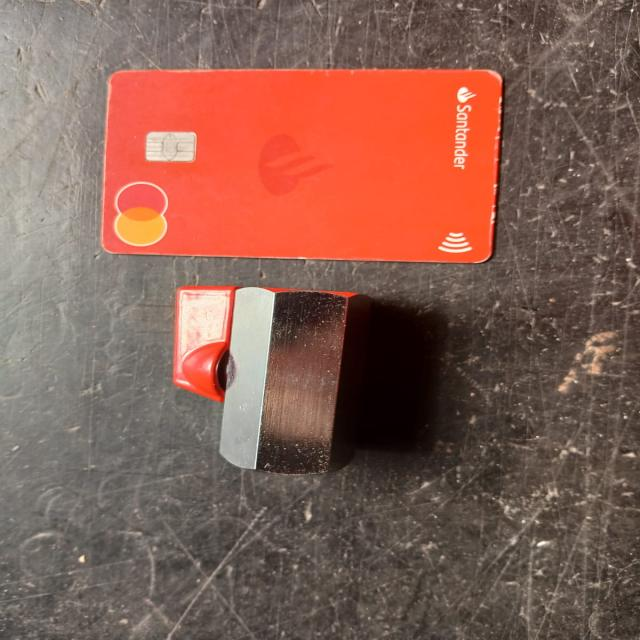cartao: (102, 69, 502, 263)
rosca_interna: (173, 285, 371, 474)
